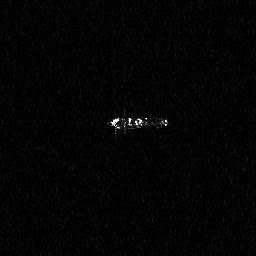ship: (108, 108, 169, 138)
